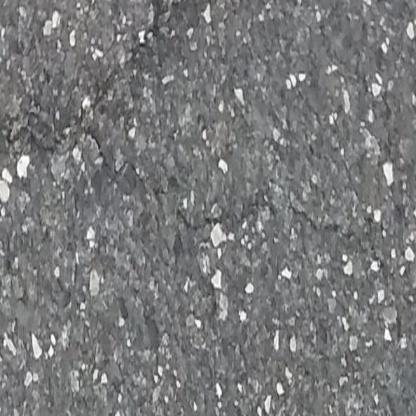Cracks: (0, 0, 225, 153)
